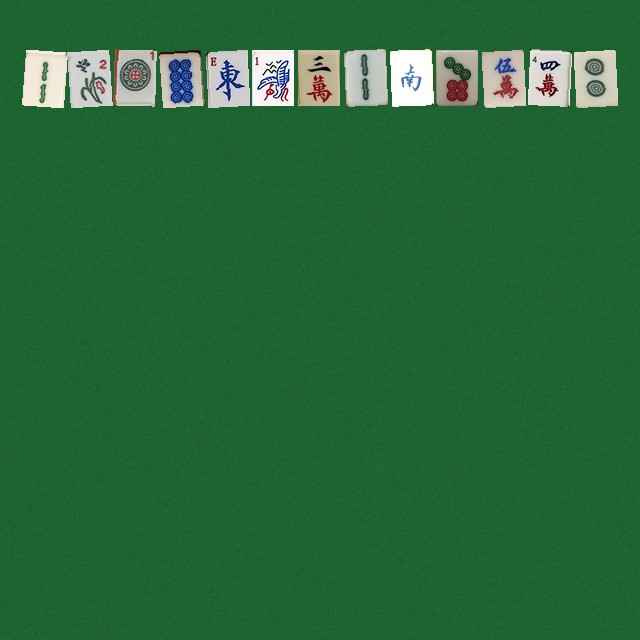tile: (21, 49, 63, 105), (67, 49, 109, 105), (113, 49, 155, 105), (159, 49, 201, 105), (205, 49, 247, 105), (251, 49, 293, 105), (297, 49, 339, 105), (343, 49, 385, 105), (389, 49, 431, 105), (435, 49, 477, 105), (481, 49, 523, 105), (527, 49, 569, 105), (573, 49, 615, 105)
